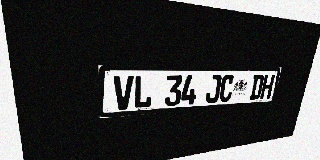3: (164, 75, 183, 106)
4: (180, 75, 198, 105)
C: (218, 75, 235, 102)
D: (249, 75, 265, 100)
H: (260, 74, 275, 99)
J: (205, 75, 222, 103)
L: (133, 75, 153, 109)
V: (114, 76, 134, 110)
